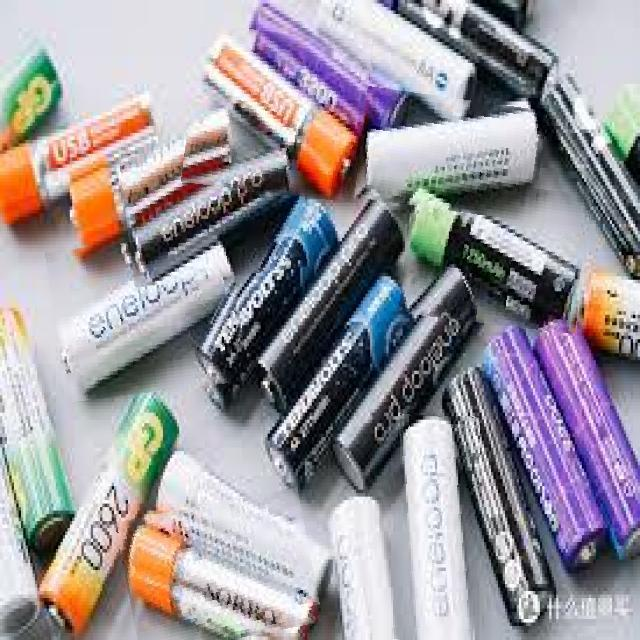Battery: (25, 374, 192, 639), (248, 269, 428, 507), (242, 187, 412, 424), (328, 264, 493, 501), (479, 319, 614, 591), (434, 362, 565, 638), (180, 188, 348, 403), (42, 233, 245, 394), (194, 25, 362, 207), (147, 448, 334, 602), (64, 106, 241, 260), (532, 314, 639, 561), (402, 187, 577, 331), (114, 147, 299, 283), (125, 516, 317, 639), (239, 4, 408, 141), (537, 53, 639, 278), (3, 90, 159, 227), (362, 92, 547, 203), (312, 0, 482, 117), (0, 307, 82, 545), (401, 417, 476, 639), (311, 477, 401, 639)
